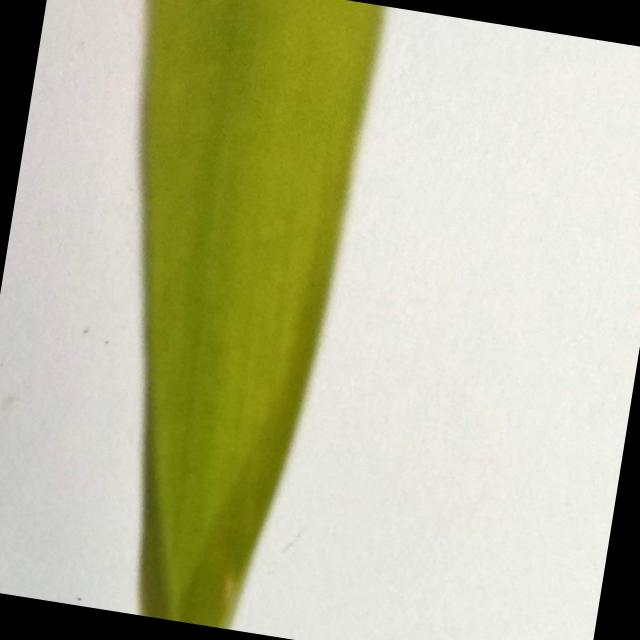Rice_Healthy: (140, 0, 384, 628)
